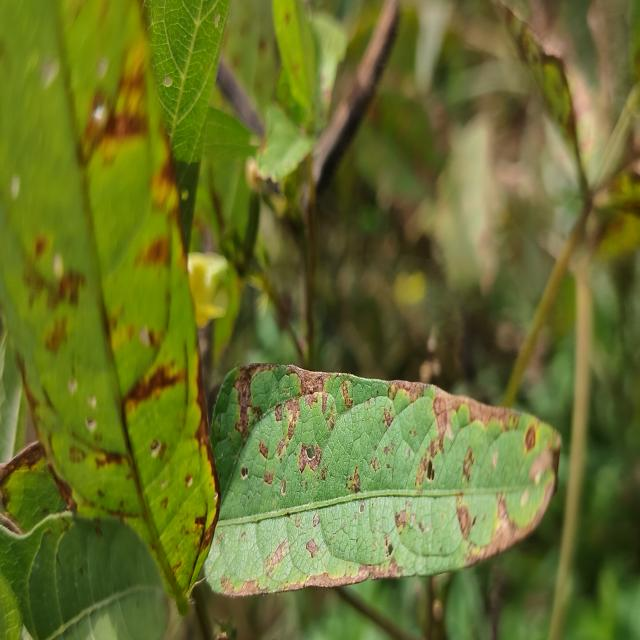Black gram_leaf spot: (0, 0, 219, 609), (198, 363, 562, 598)
